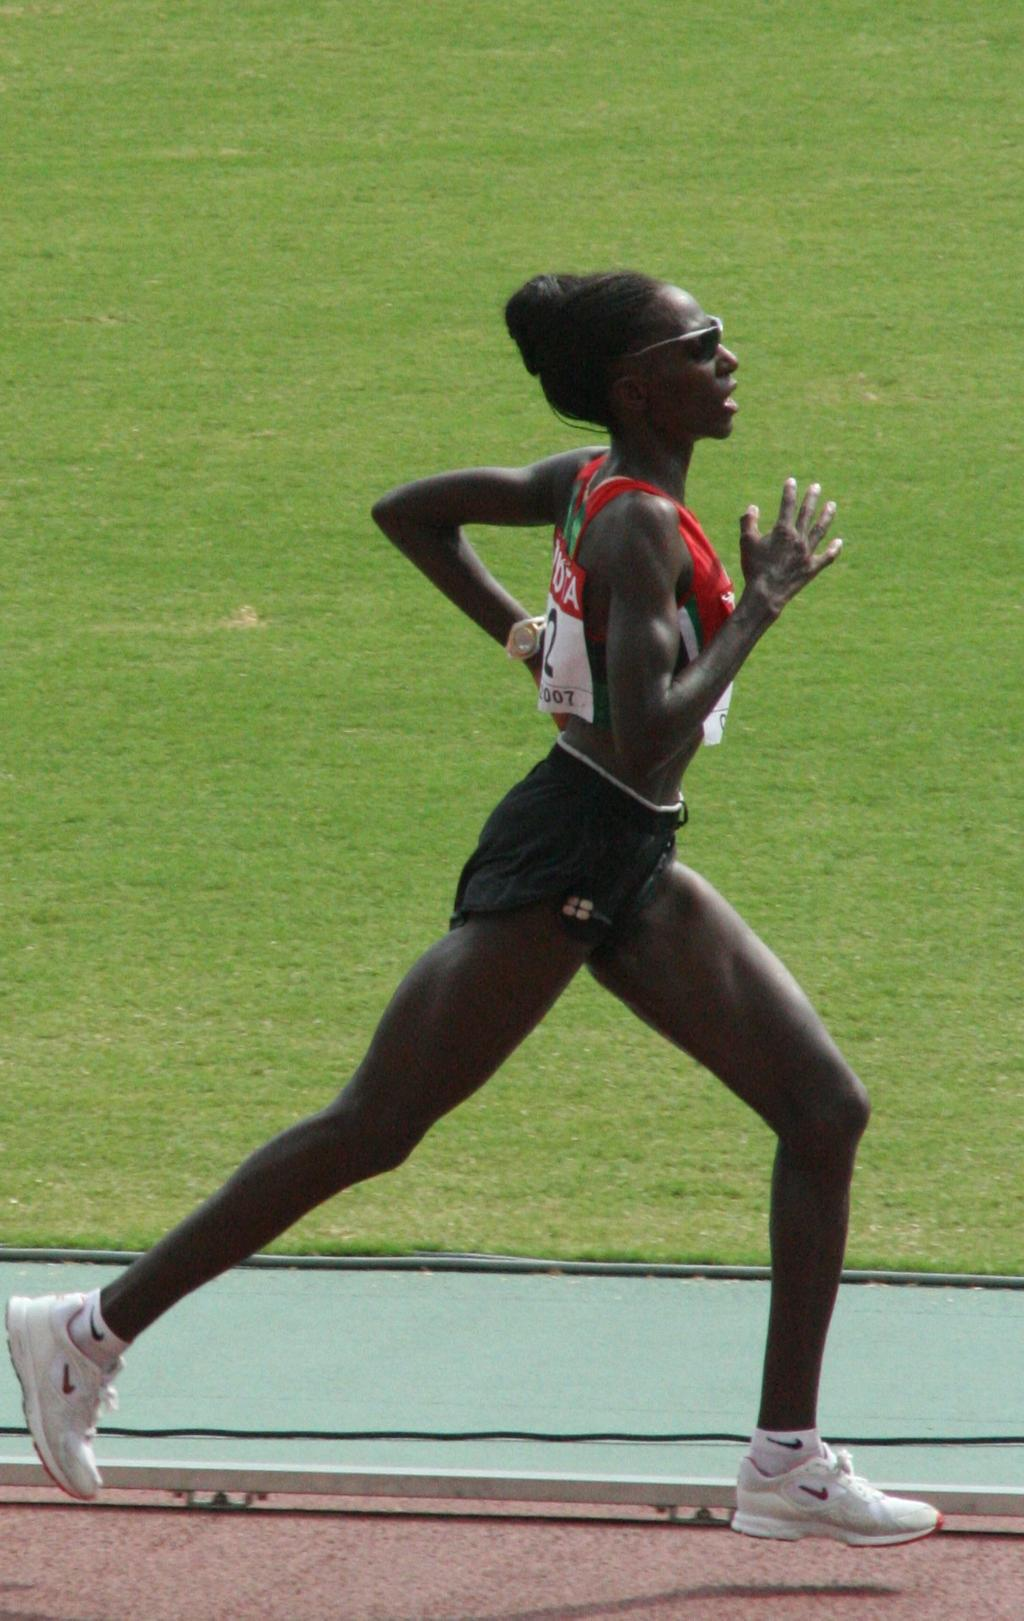face: (639, 279, 737, 440)
